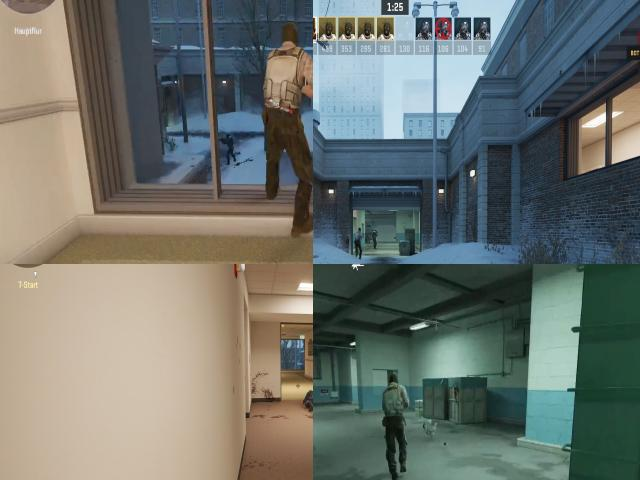CT: (223, 132, 234, 161), (372, 229, 378, 248)
CT-Head: (302, 389, 313, 411), (226, 133, 232, 144), (374, 230, 377, 232)
T: (259, 21, 313, 123), (371, 375, 416, 437), (356, 227, 362, 256)
T-Head: (277, 22, 302, 56), (358, 228, 361, 232)
